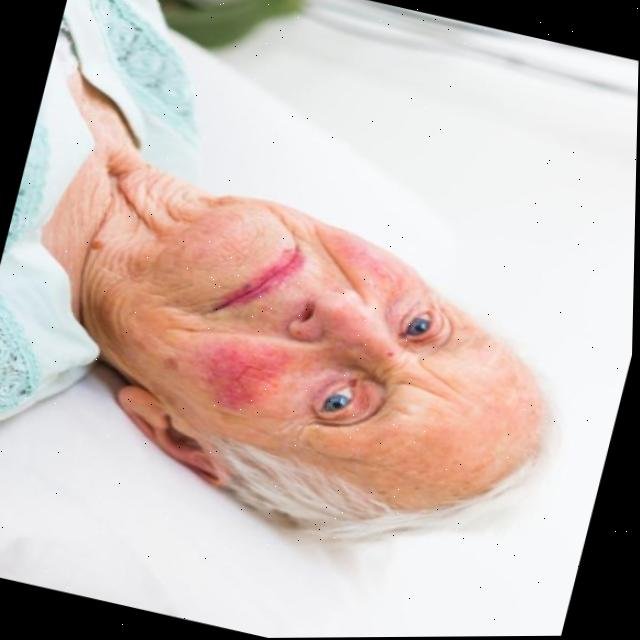Rosacea: (185, 336, 283, 435), (325, 235, 405, 302)
